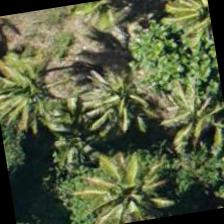Kelapa_Sawit: (64, 42, 168, 144), (76, 137, 178, 223), (62, 138, 164, 223), (147, 64, 223, 165), (0, 36, 76, 137), (154, 0, 217, 61)
